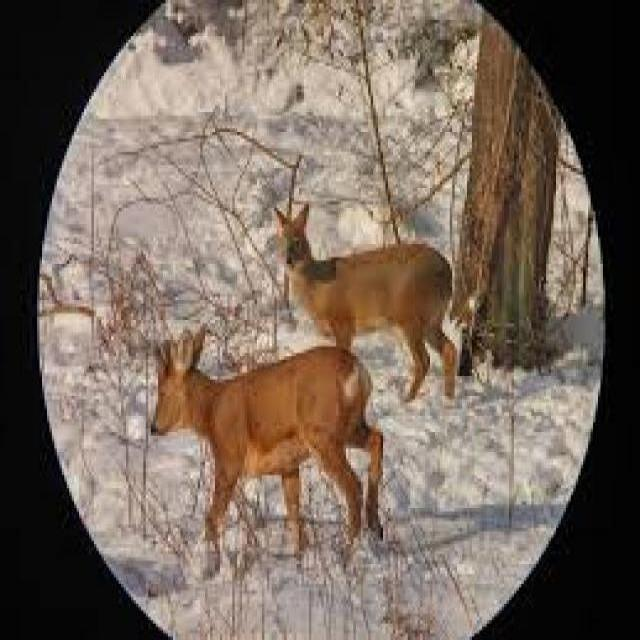deer: (142, 317, 396, 563), (268, 184, 467, 404)
